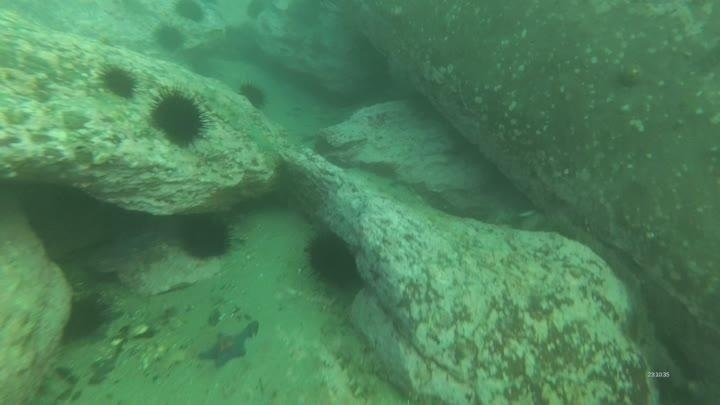echinus: (147, 86, 212, 150), (302, 229, 362, 293), (175, 211, 238, 263), (62, 292, 111, 343), (97, 63, 140, 101), (151, 22, 187, 54), (237, 79, 271, 111), (172, 1, 208, 25)
holothurian: (323, 327, 385, 403)
starfish: (196, 320, 260, 372), (246, 125, 278, 155)
